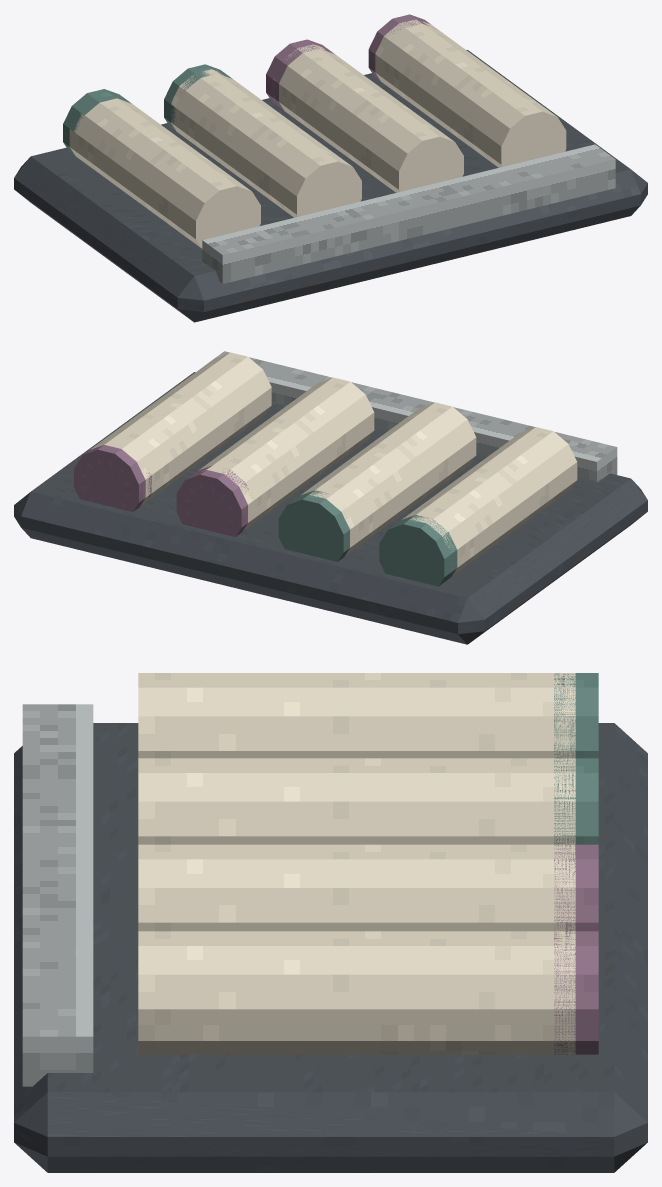
The model's file is anesthetic_kit.glb.
3 views of the same model, one above another, from view 1: azimuth 30°, elevation 25°; view 2: azimuth 150°, elevation 25°; view 3: azimuth 270°, elevation 25° (orthographic). The views are drawn at different scales.
Visible parts, largest first — view 1: block_sealed medical canister (×4), block_medical kit case, block_back hinge, block_colored safety cap (×4); view 2: block_sealed medical canister (×4), block_medical kit case, block_colored safety cap (×4), block_back hinge; view 3: block_sealed medical canister (×4), block_medical kit case, block_back hinge, block_colored safety cap (×4).
Part boxes in pixels (x1,y1,x2,y2): block_sealed medical canister (×4): (69, 19, 566, 248); block_medical kit case: (14, 50, 647, 322); block_back hinge: (202, 144, 615, 283); block_colored safety cap (×4): (63, 14, 430, 155); block_sealed medical canister (×4): (90, 352, 577, 576); block_medical kit case: (14, 372, 647, 644); block_colored safety cap (×4): (74, 445, 457, 586); block_back hinge: (204, 351, 617, 482); block_sealed medical canister (×4): (138, 673, 575, 1054); block_medical kit case: (14, 723, 647, 1172); block_back hinge: (22, 704, 93, 1086); block_colored safety cap (×4): (554, 673, 598, 1054).
Size of the model in its own units: 0.2814 by 0.0574 by 0.1896.
Materials: 1 (1 with a texture image).
